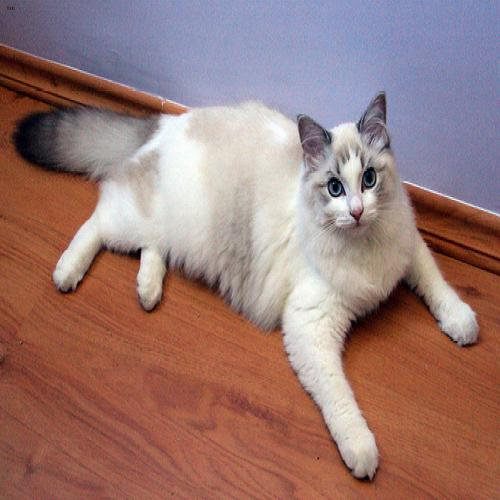ragdoll: (294, 82, 405, 250)
